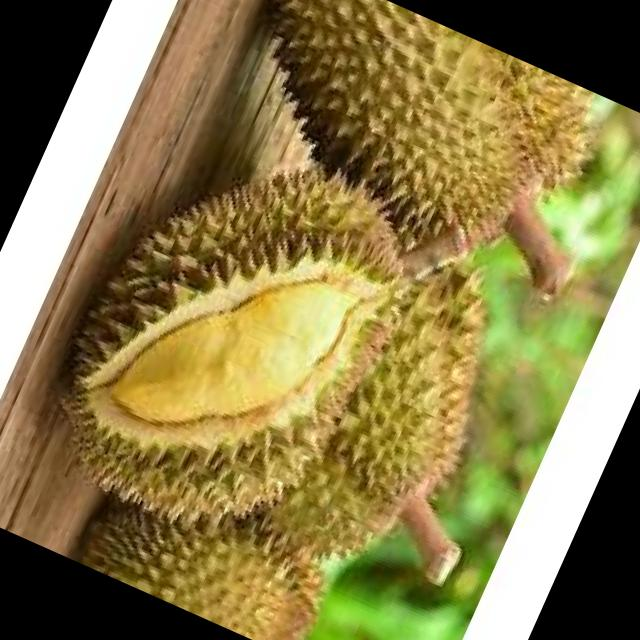fruit: (9, 72, 466, 566), (177, 0, 619, 311), (55, 423, 380, 640)
